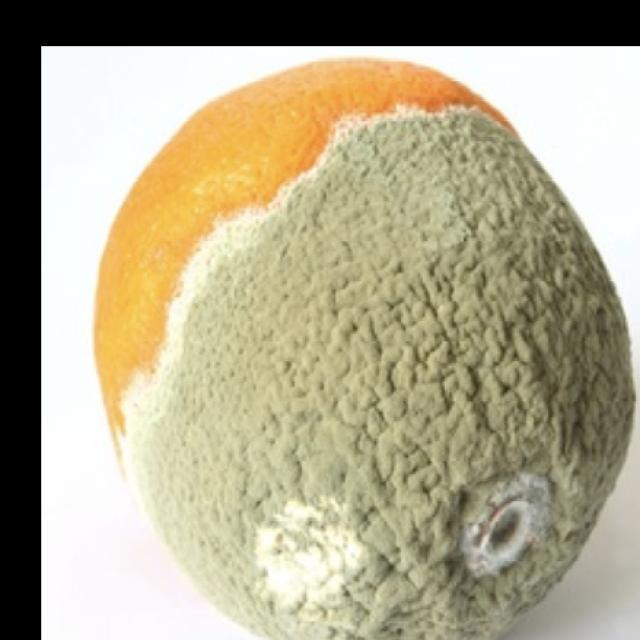sangat-busuk: (95, 60, 634, 639)
